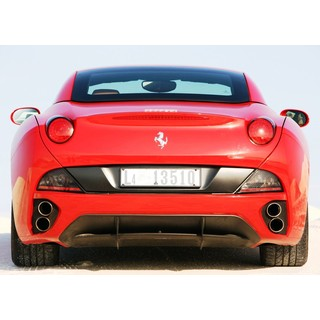car: (10, 66, 309, 269)
